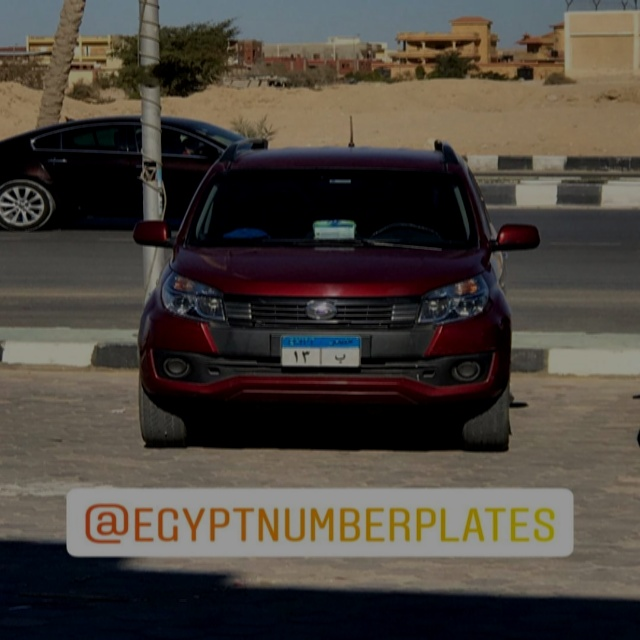License Plate: (279, 334, 363, 369)
